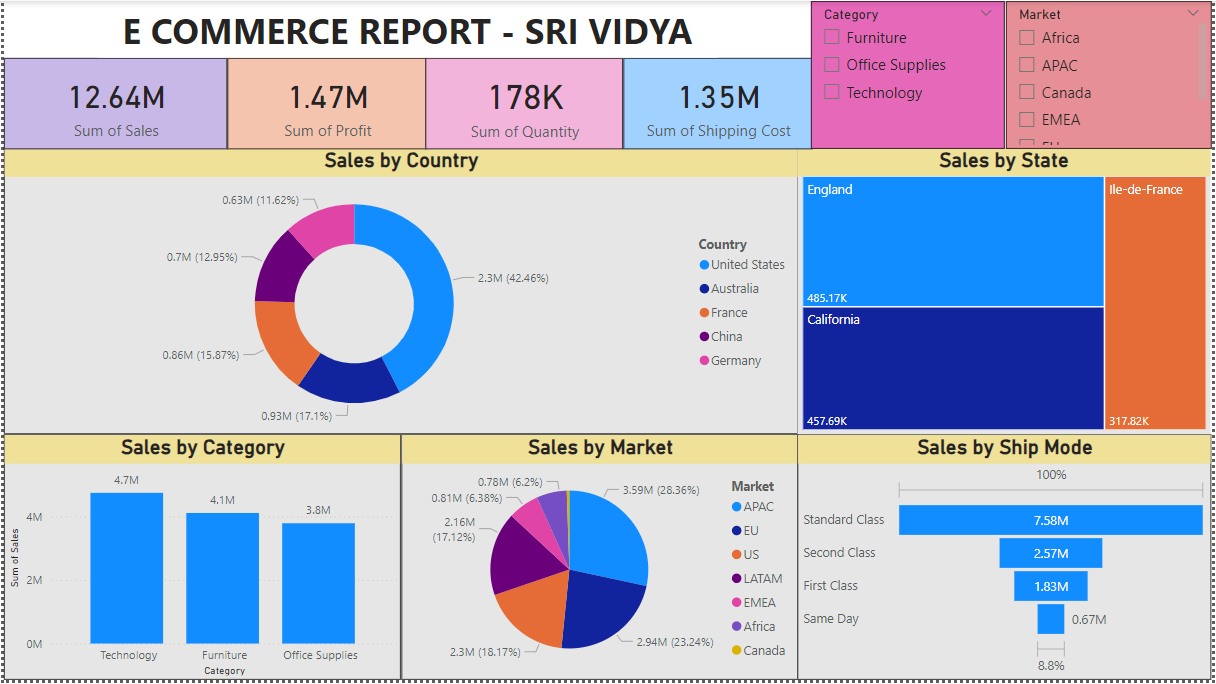

Layout of this report page (visuals, bound fields, positions):
{"tool":"powerbi","page":{"name":"Page 1","canvas":[1280,720],"ordinal":0},"visuals":[{"type":"columnChart","title":"Sales by Category","fields":{"Category":["Orders.Category"],"Y":["Orders.Sales"]},"box":[0,459.7,421,259.7],"z":0},{"type":"pieChart","title":"Sales by Market","fields":{"Category":["Orders.Market"],"Y":["Orders.Sales"]},"box":[421,459.7,421,259.7],"z":1000},{"type":"funnel","title":"Sales by Ship Mode","fields":{"Category":["Orders.Ship Mode"],"Y":["Orders.Sales"]},"box":[841.9,459.7,438.7,259.7],"z":2000},{"type":"donutChart","title":"Sales by Country","fields":{"Category":["Orders.Country"],"Y":["Orders.Sales"]},"box":[0,156.4,841.8,303.6],"z":3000},{"type":"treemap","title":" Sales by State","fields":{"Group":["Orders.State"],"Values":["Orders.Sales"]},"box":[841.8,156.4,438.2,303.6],"z":4000},{"type":"card","fields":{"Values":["Orders.Sales"]},"box":[0,60,236.4,96.4],"z":5000},{"type":"card","fields":{"Values":["Orders.Profit"]},"box":[236.4,60,210.9,96.4],"z":6000},{"type":"card","fields":{"Values":["Orders.Quantity"]},"box":[447.3,60,209.1,96.4],"z":7000},{"type":"card","fields":{"Values":["Orders.Shipping Cost"]},"box":[656.4,60,200,96.4],"z":8000},{"type":"slicer","fields":{"Values":["Orders.Category"]},"box":[856.4,0,205.5,156.4],"z":9000},{"type":"slicer","fields":{"Values":["Orders.Market"]},"box":[1061.8,0,218.2,156.4],"z":10000},{"type":"textbox","box":[98.2,0,658.2,60],"z":11000}]}

Visuals, with their boxes in screenshot pixels (x1, y1, x2, y2), scaled from the page's 1280x720 canvas onto the 1216x684 screenshot:
"Sales by Category" columnChart: (x1=0, y1=437, x2=400, y2=683)
"Sales by Market" pieChart: (x1=400, y1=437, x2=800, y2=683)
"Sales by Ship Mode" funnel: (x1=800, y1=437, x2=1215, y2=683)
"Sales by Country" donutChart: (x1=0, y1=149, x2=800, y2=437)
" Sales by State" treemap: (x1=800, y1=149, x2=1215, y2=437)
card - Orders.Sales: (x1=0, y1=57, x2=225, y2=149)
card - Orders.Profit: (x1=225, y1=57, x2=425, y2=149)
card - Orders.Quantity: (x1=425, y1=57, x2=624, y2=149)
card - Orders.Shipping Cost: (x1=624, y1=57, x2=814, y2=149)
slicer - Orders.Category: (x1=814, y1=0, x2=1009, y2=149)
slicer - Orders.Market: (x1=1009, y1=0, x2=1215, y2=149)
textbox: (x1=93, y1=0, x2=719, y2=57)
